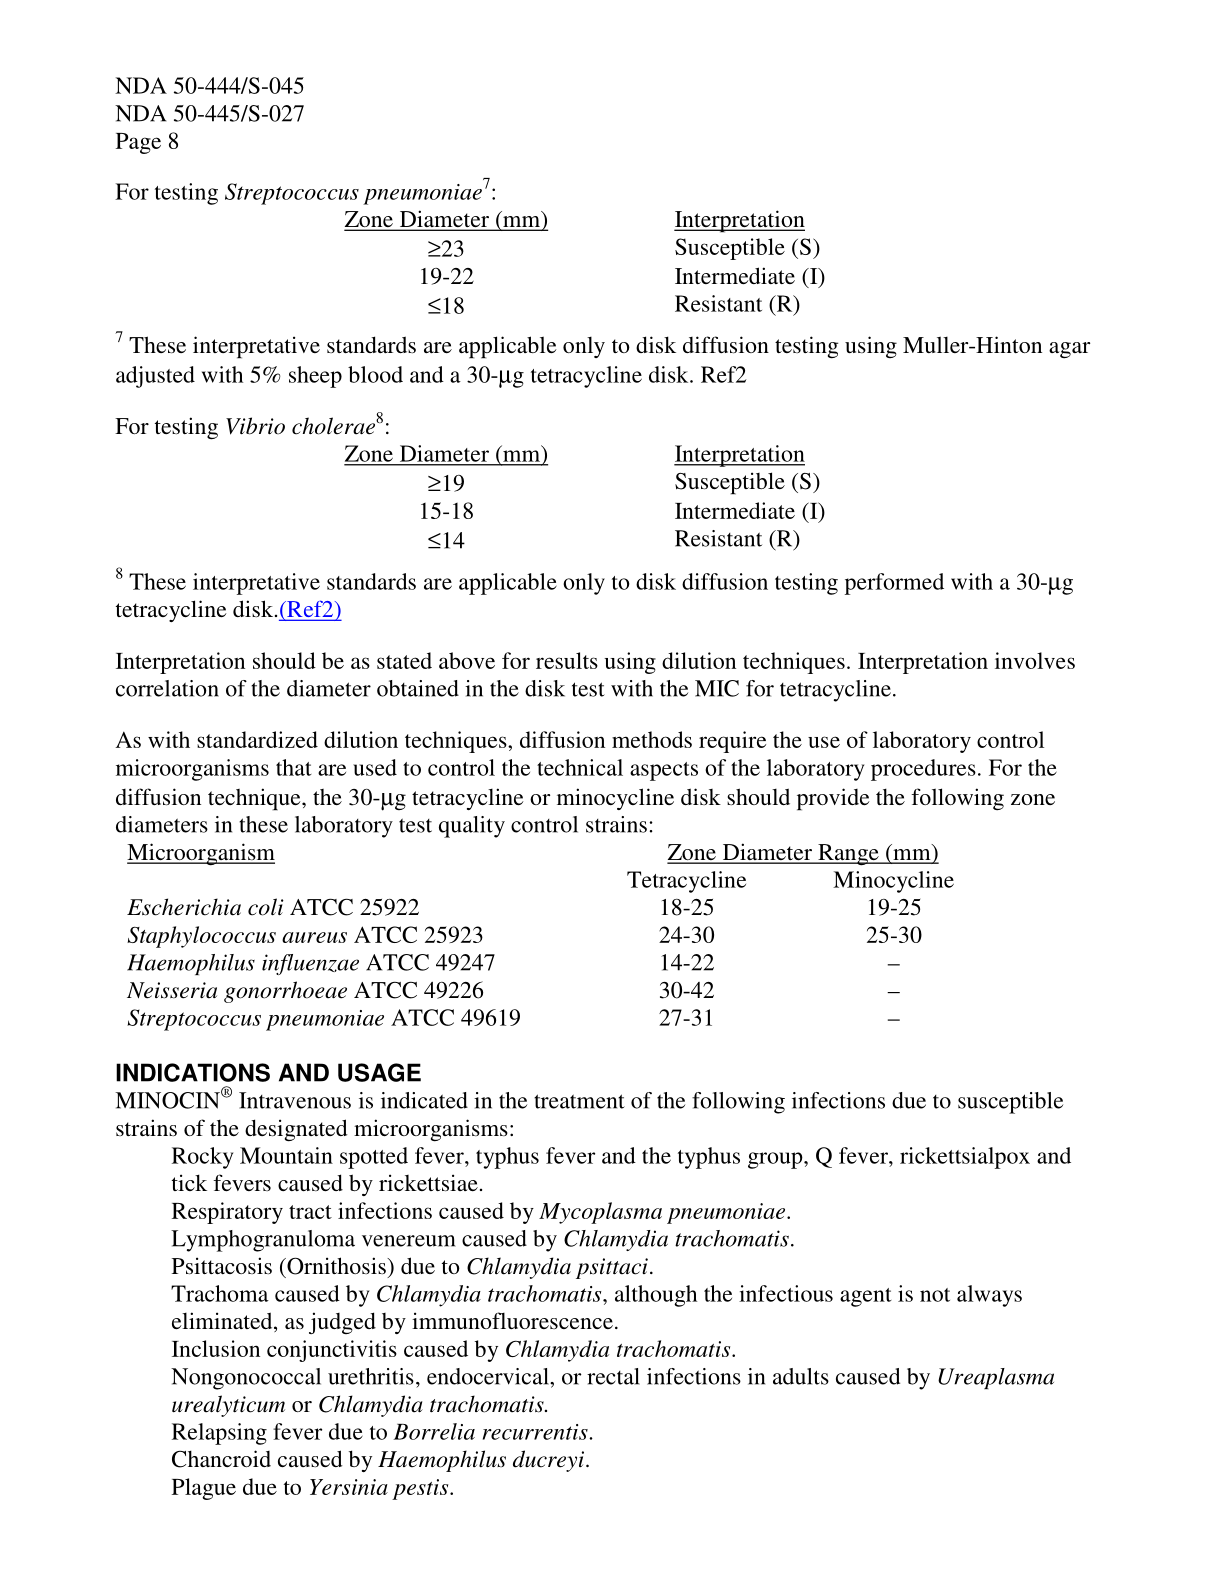nolines: (123, 841, 954, 1034), (341, 441, 825, 552), (342, 208, 824, 316)
